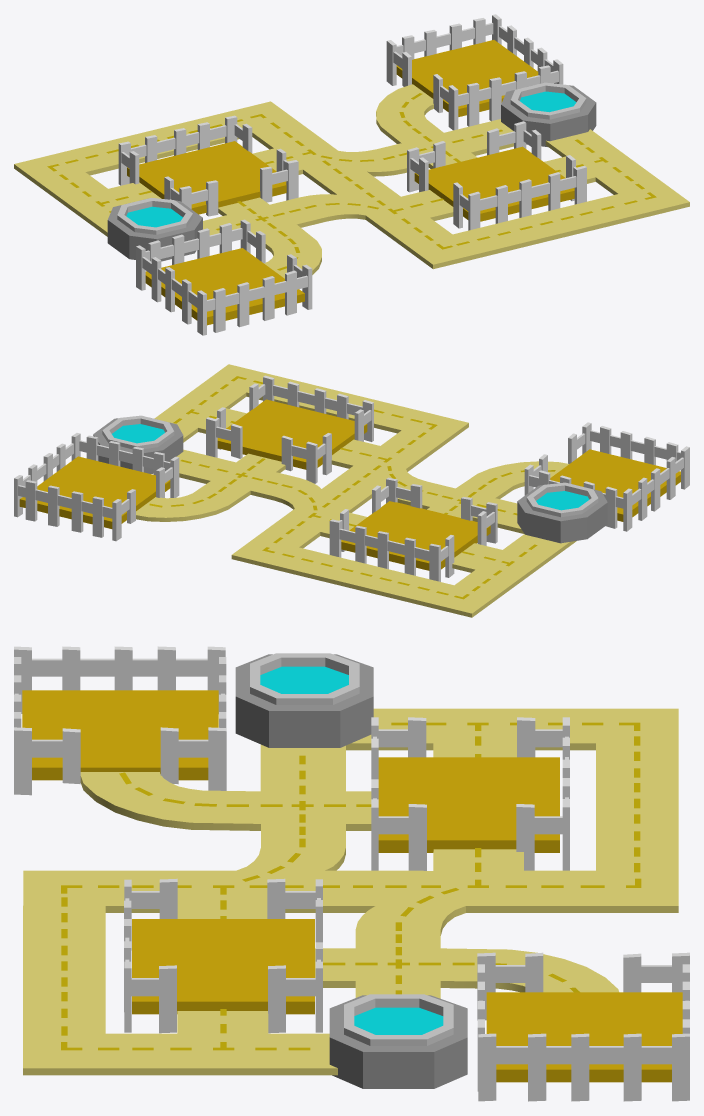
Rendered from lesson01.fbx.
The picture shows the model from 3 angles, top to bottom: view 1: azimuth 30°, elevation 25°; view 2: azimuth 150°, elevation 25°; view 3: azimuth 270°, elevation 25°; orthographic projection. The views are drawn at different scales.
Parts seen in each view (by area): view 1: floor2, polySurface45, polySurface10, polySurface7, polySurface9, well, well_ncl1_1, water, water_ncl1_1, polySurface41, polySurface36_ncl2__ncl1_2, polySurface41_ncl2__ncl1_1 (+10 smaller); view 2: floor2, polySurface10, polySurface45, polySurface7, well_ncl1_1, polySurface9, well, water_ncl1_1, polySurface41_ncl2__ncl1_1, water, polySurface36_ncl2_, polySurface41 (+18 smaller); view 3: floor2, polySurface45, polySurface10, polySurface9, polySurface7, well_ncl1_1, well, polySurface41_ncl2_, polySurface41_ncl2__ncl1_2, water, water_ncl1_1, polySurface42_ncl2_ (+21 smaller).
Part boxes in pixels (x1=…): floor2: x1=14, y1=84, x2=689, y2=278; polySurface45: x1=127, y1=141, x2=286, y2=214; polySurface10: x1=414, y1=146, x2=574, y2=221; polySurface7: x1=396, y1=40, x2=538, y2=116; polySurface9: x1=145, y1=248, x2=304, y2=325; well: x1=501, y1=82, x2=596, y2=146; well_ncl1_1: x1=107, y1=197, x2=202, y2=261; water: x1=520, y1=91, x2=576, y2=112; water_ncl1_1: x1=126, y1=206, x2=182, y2=227; polySurface41: x1=480, y1=176, x2=576, y2=210; polySurface36_ncl2__ncl1_2: x1=207, y1=275, x2=307, y2=311; polySurface41_ncl2__ncl1_1: x1=131, y1=125, x2=226, y2=157; floor2: x1=136, y1=364, x2=576, y2=617; polySurface10: x1=217, y1=399, x2=367, y2=469; polySurface45: x1=341, y1=501, x2=490, y2=570; polySurface7: x1=19, y1=456, x2=170, y2=528; well_ncl1_1: x1=517, y1=482, x2=607, y2=543; polySurface9: x1=550, y1=449, x2=680, y2=521; well: x1=93, y1=415, x2=183, y2=473; water_ncl1_1: x1=536, y1=491, x2=589, y2=510; polySurface41_ncl2__ncl1_1: x1=339, y1=528, x2=429, y2=560; water: x1=112, y1=424, x2=164, y2=443; polySurface36_ncl2_: x1=18, y1=485, x2=112, y2=518; polySurface41: x1=273, y1=385, x2=362, y2=415; floor2: x1=23, y1=708, x2=678, y2=1075; polySurface45: x1=378, y1=757, x2=559, y2=852; polySurface10: x1=132, y1=919, x2=314, y2=1014; polySurface9: x1=22, y1=690, x2=218, y2=780; polySurface7: x1=486, y1=992, x2=682, y2=1082; well_ncl1_1: x1=235, y1=653, x2=373, y2=747; well: x1=329, y1=994, x2=467, y2=1088; polySurface41_ncl2_: x1=496, y1=1046, x2=671, y2=1064; polySurface41_ncl2__ncl1_2: x1=32, y1=658, x2=207, y2=676; water: x1=354, y1=1007, x2=443, y2=1034; water_ncl1_1: x1=260, y1=666, x2=348, y2=693; polySurface42_ncl2_: x1=623, y1=1033, x2=641, y2=1101.
Size of the model in its own units: 817 by 67.59 by 598.
